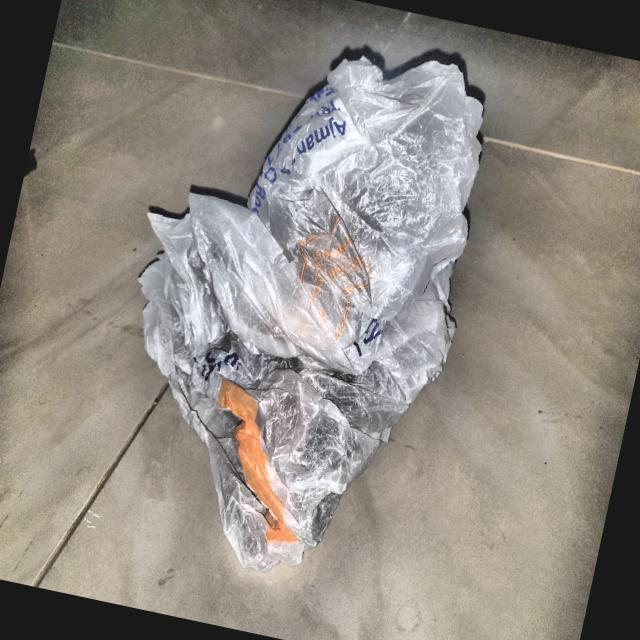plastic bag: (65, 0, 523, 623)
